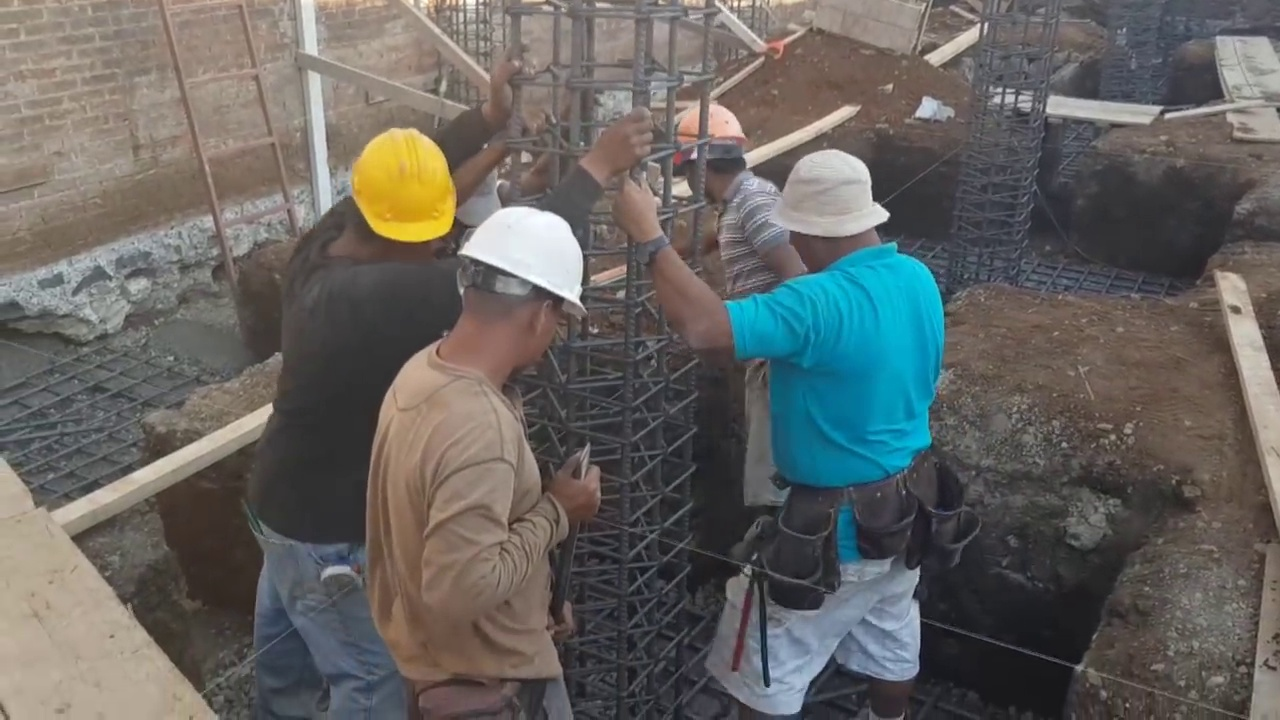helmet: (453, 206, 584, 316), (346, 138, 456, 242), (667, 100, 751, 165)
helmet-off: (773, 150, 890, 279)
helmet-on: (432, 204, 584, 399), (318, 132, 457, 271), (658, 90, 753, 216)
person: (613, 145, 954, 718), (248, 45, 524, 712), (361, 205, 599, 710), (661, 93, 799, 638)
